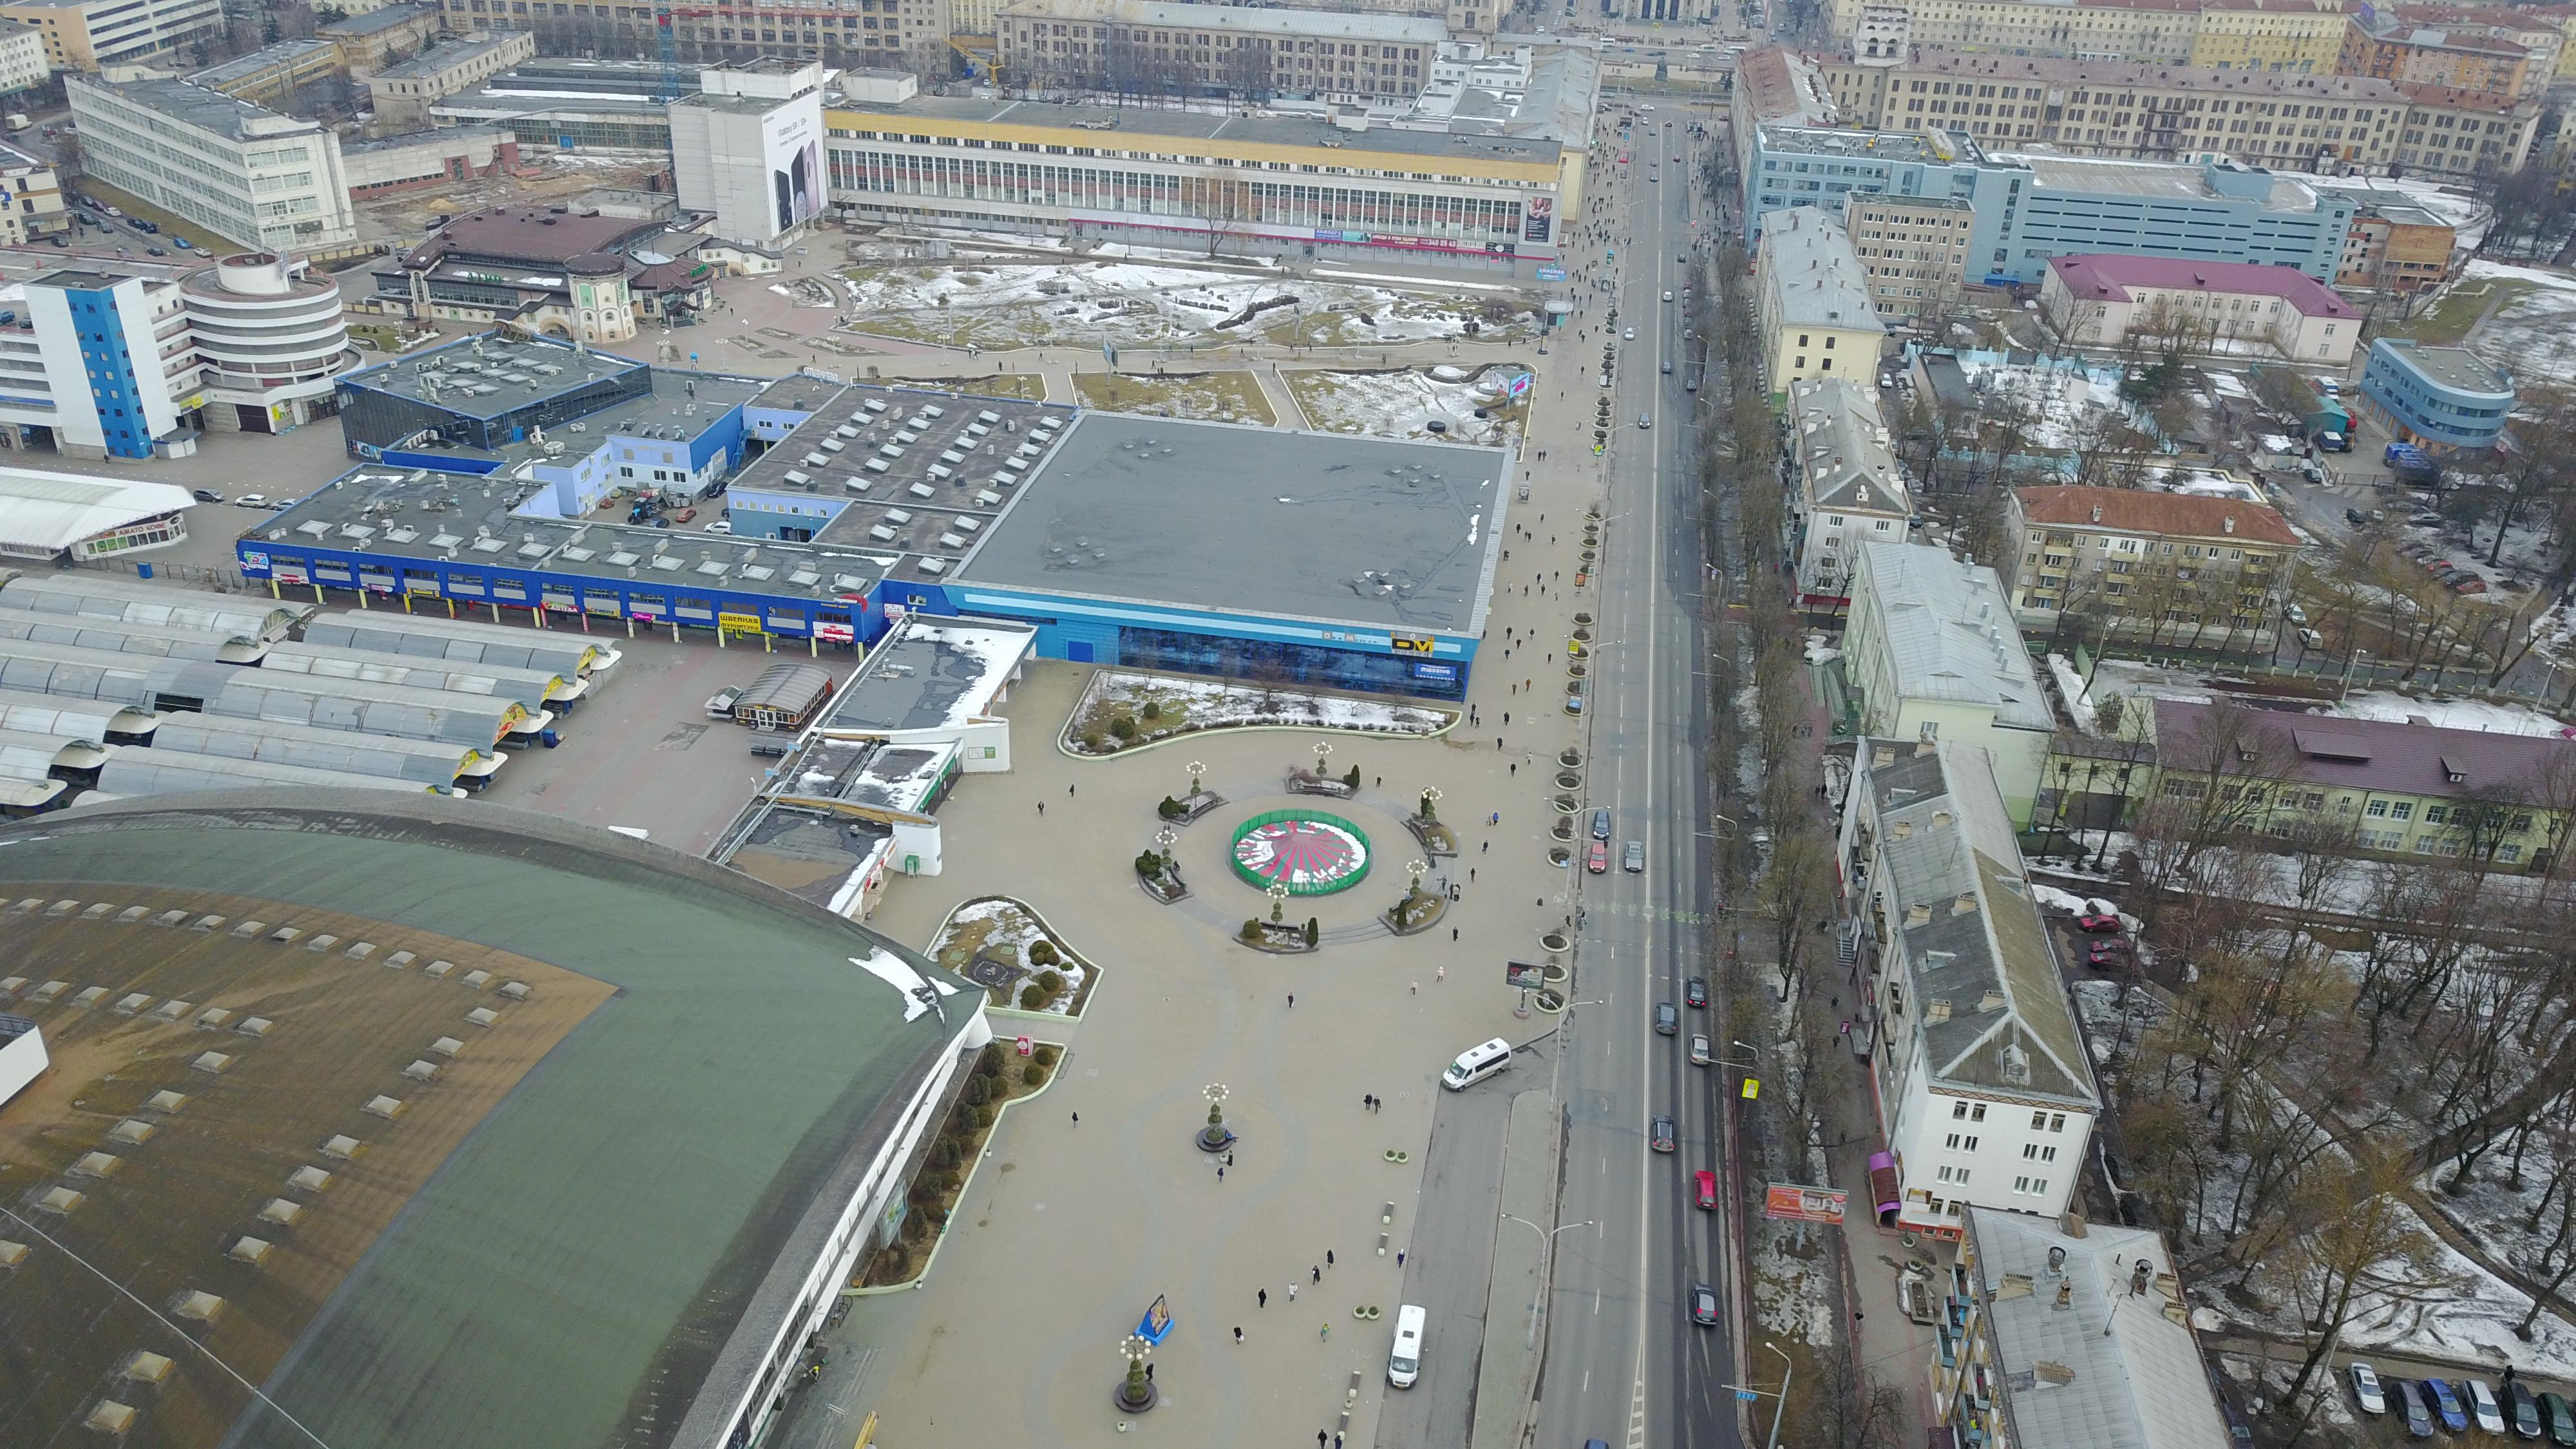car: (1686, 1279, 1723, 1329), (1693, 1162, 1721, 1215), (1649, 1111, 1679, 1157), (1652, 1000, 1679, 1035), (1688, 1031, 1713, 1069), (1587, 842, 1610, 874), (1686, 975, 1707, 1008), (1624, 840, 1645, 872), (1591, 810, 1612, 840), (1637, 412, 1651, 428), (1660, 361, 1672, 373), (1624, 327, 1635, 340)
